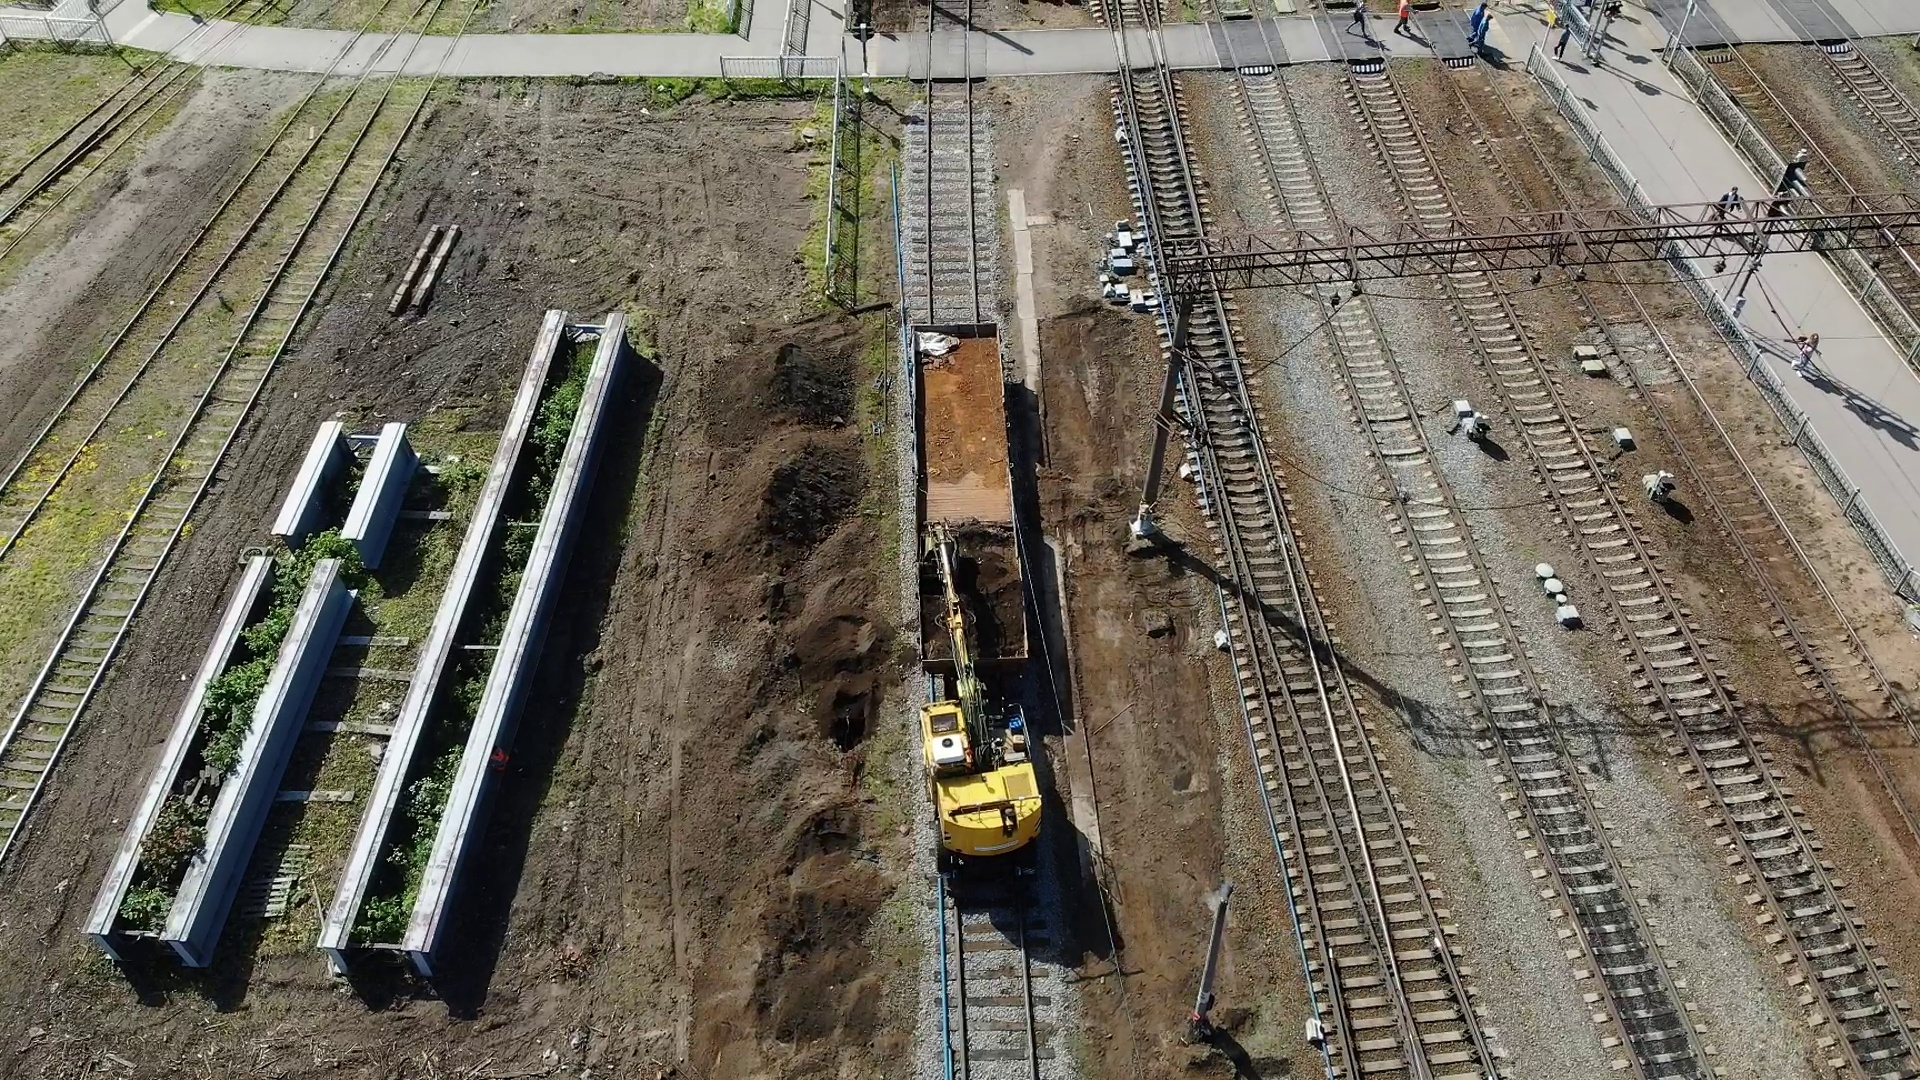kjtv: (918, 679, 1048, 882)
